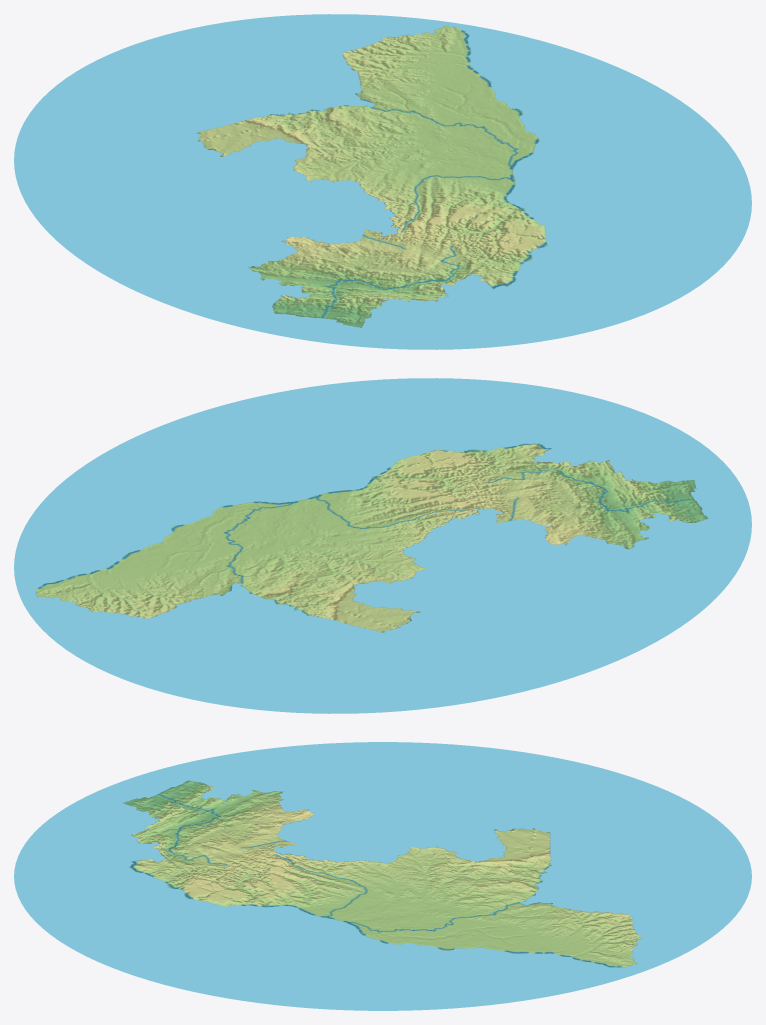
Rendered from COG-terrain.glb.
3 renders of one model, top to bottom at view 1: azimuth 30°, elevation 25°; view 2: azimuth 150°, elevation 25°; view 3: azimuth 270°, elevation 25°, orthographic. The views are drawn at different scales.
Parts seen in each view (by area): view 1: Relevo com hidrografia; view 2: Relevo com hidrografia; view 3: Relevo com hidrografia.
Boxes of the visible parts, bbox=[...] form: Relevo com hidrografia: bbox=[14, 14, 751, 349]; Relevo com hidrografia: bbox=[14, 378, 751, 713]; Relevo com hidrografia: bbox=[14, 742, 751, 1010].
Bounding box in the file's own units: 1.97 × 0.0177 × 2.28.
2 materials, 1 textured.
